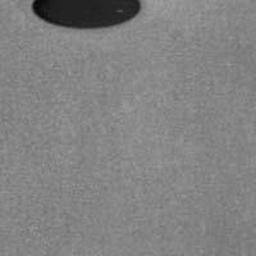Punching: (29, 0, 141, 29)
